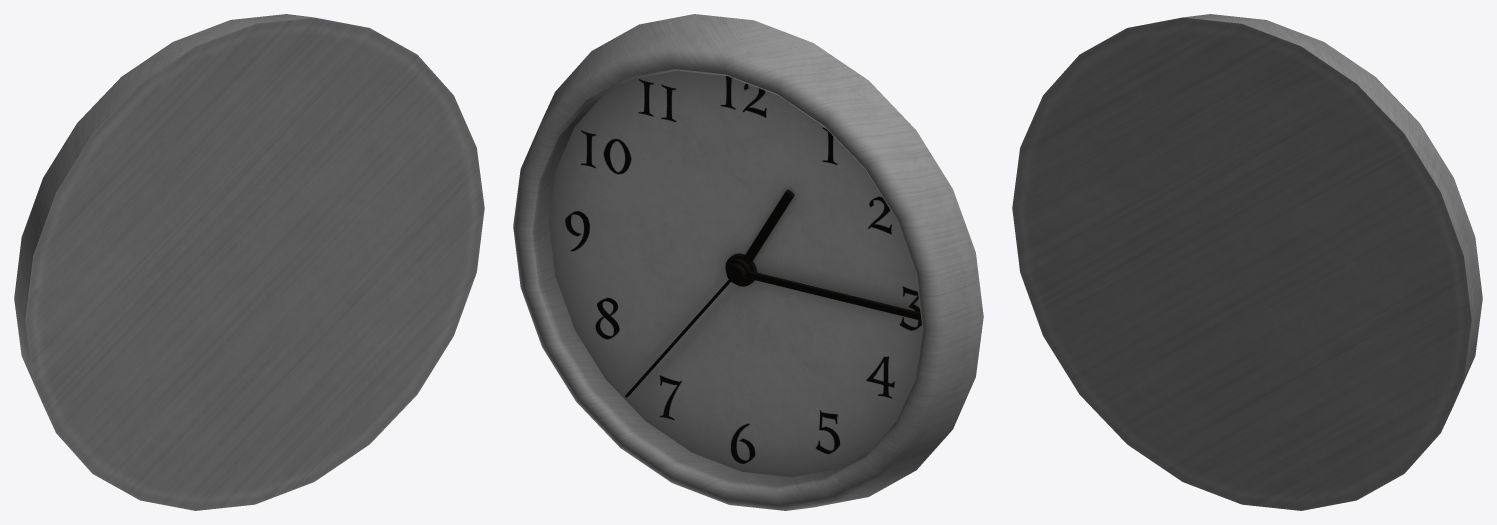
File: Clock.fbx
3 views of the same model, side by side, from view 1: azimuth 30°, elevation 25°; view 2: azimuth 150°, elevation 25°; view 3: azimuth 330°, elevation 25° (orthographic).
Parts seen in each view (by area): view 1: Clock; view 2: Clock; view 3: Clock.
Boxes of the visible parts, box(x1,y1,x2,y2) form: Clock: box(14, 14, 484, 510); Clock: box(513, 14, 983, 510); Clock: box(1012, 14, 1482, 510).
Size of the model in its own units: 0.3221 by 0.035 by 0.3221.
